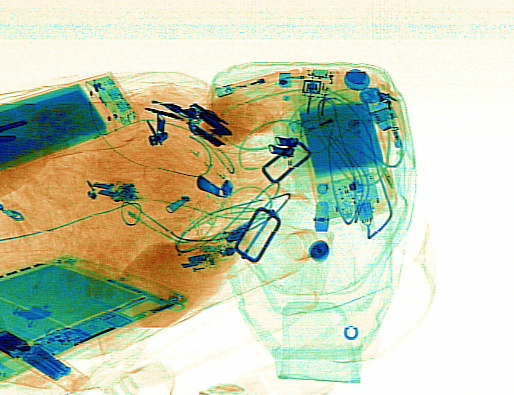lighter: (287, 92, 372, 135), (370, 90, 411, 175), (211, 65, 301, 97)
